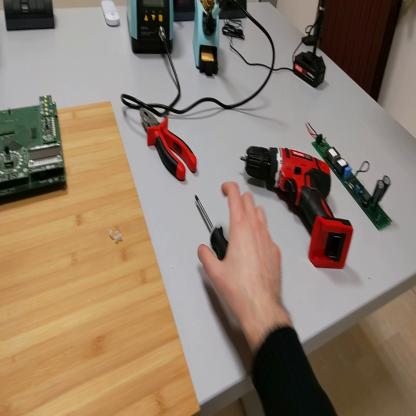electric screwdriver: (237, 141, 357, 277)
electric screwdriver battery: (292, 49, 327, 91)
hand: (200, 181, 284, 328)
high voltage board: (301, 120, 397, 235)
low voltage board: (2, 92, 69, 205)
pliers: (140, 104, 198, 184)
screwdriver-: (194, 195, 226, 258)
socket: (219, 1, 250, 20), (174, 3, 197, 25)
welder base: (193, 4, 223, 77)
welder station: (126, 1, 176, 57)
working area: (2, 101, 203, 414)
